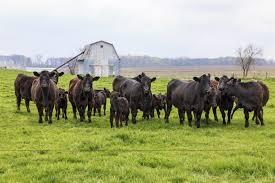cow: (221, 75, 270, 128), (166, 73, 213, 128), (14, 68, 64, 112), (121, 76, 157, 124), (69, 72, 100, 123), (32, 70, 59, 124), (214, 75, 235, 126), (203, 79, 220, 126), (111, 72, 147, 92), (110, 96, 129, 128), (94, 87, 112, 116), (150, 92, 166, 120), (56, 87, 69, 120)
